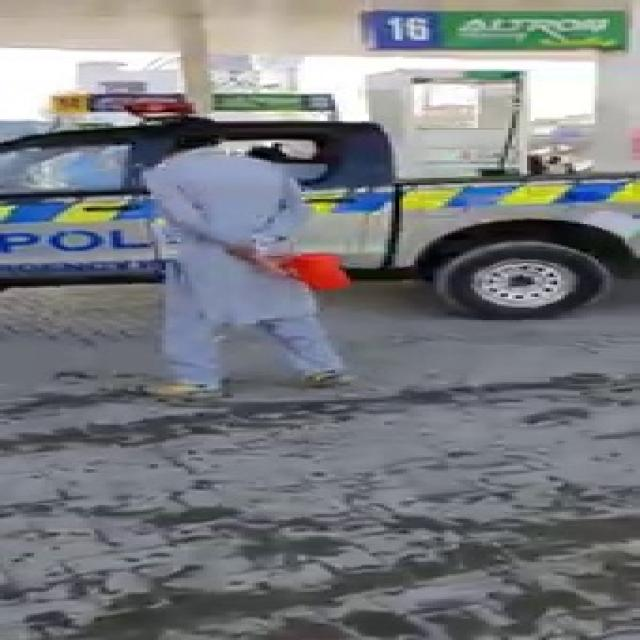police: (14, 70, 625, 307)
